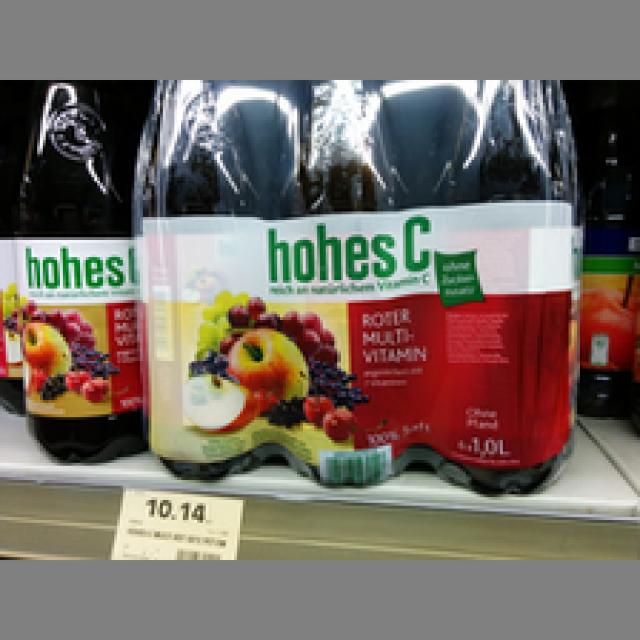groceries: (420, 80, 569, 494), (269, 74, 417, 483), (140, 77, 271, 480), (14, 74, 137, 460)
